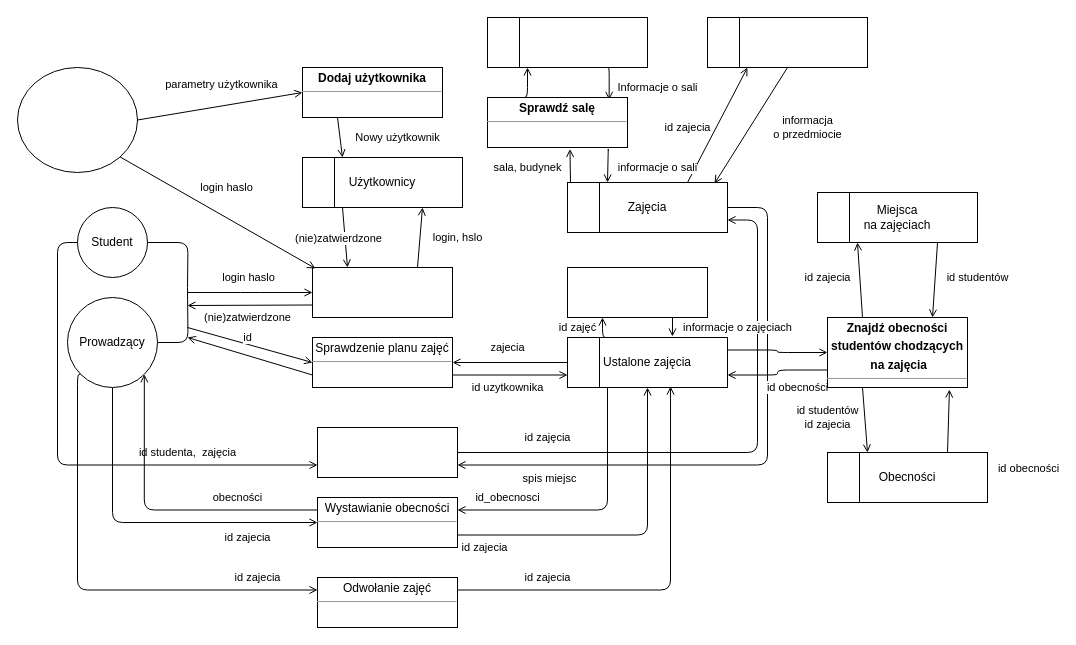
The diagram is 1076 pixels wide and 645 high, and some of its shapes have lost their labels. The shapes that lost their labels are listed below. From the top down, each one's centre as x and y in pixels, then its label:
pixel 567 42: Sala
pixel 787 42: Przedmiot
pixel 77 119: Administrator
pixel 382 292: Logowanie
pixel 637 292: Pobierz informację o zajęciach
pixel 387 452: Rezerwacja miejsca
